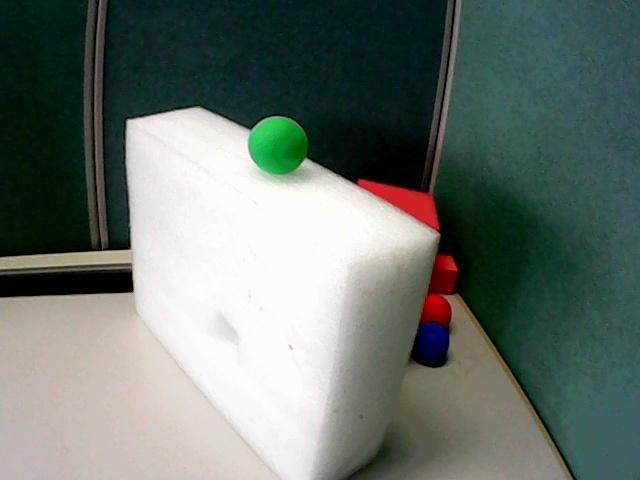red_block: (357, 179, 439, 231), (429, 253, 458, 294)
